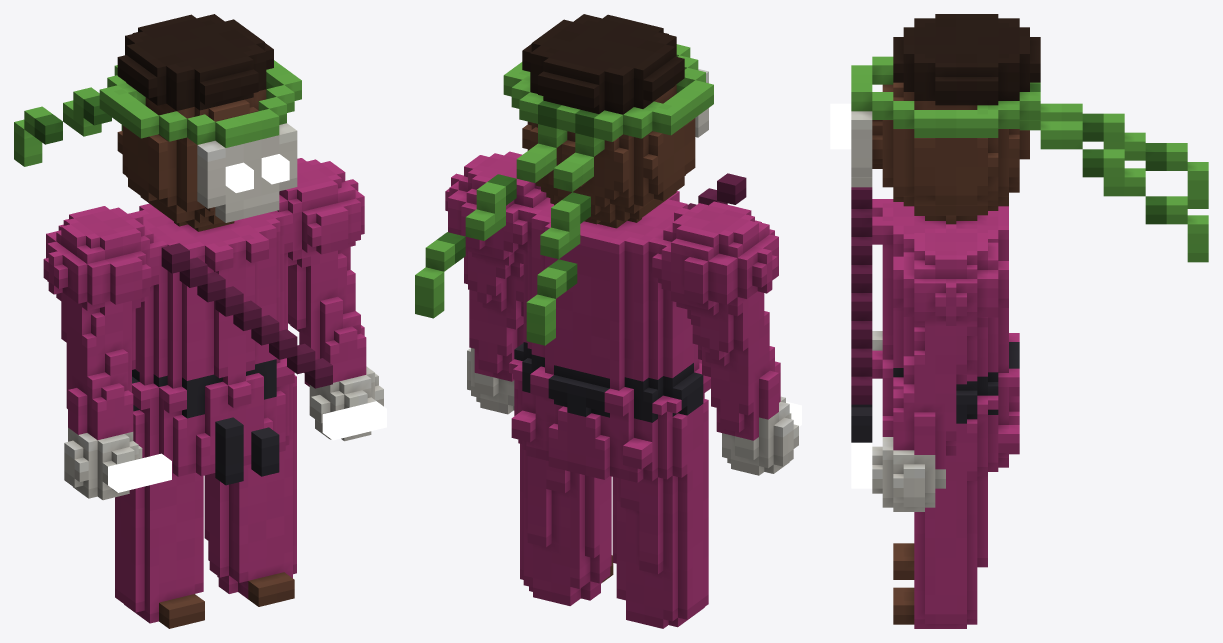
Rendered from u_tidiane__moine.glb.
The picture shows the model from 3 angles, left to right: view 1: azimuth 30°, elevation 25°; view 2: azimuth 150°, elevation 25°; view 3: azimuth 270°, elevation 25°; orthographic projection. The views are drawn at different scales.
Visible parts, largest first — view 1: tidiane_body, tidiane_glow; view 2: tidiane_body; view 3: tidiane_body, tidiane_glow.
Boxes of the visible parts, bbox=[...] form: tidiane_body: bbox=[14, 14, 383, 628]; tidiane_glow: bbox=[108, 154, 386, 492]; tidiane_body: bbox=[415, 14, 798, 628]; tidiane_body: bbox=[851, 14, 1208, 628]; tidiane_glow: bbox=[830, 103, 872, 488].
Size of the model in its own units: 0.85 by 1.45 by 0.9.
